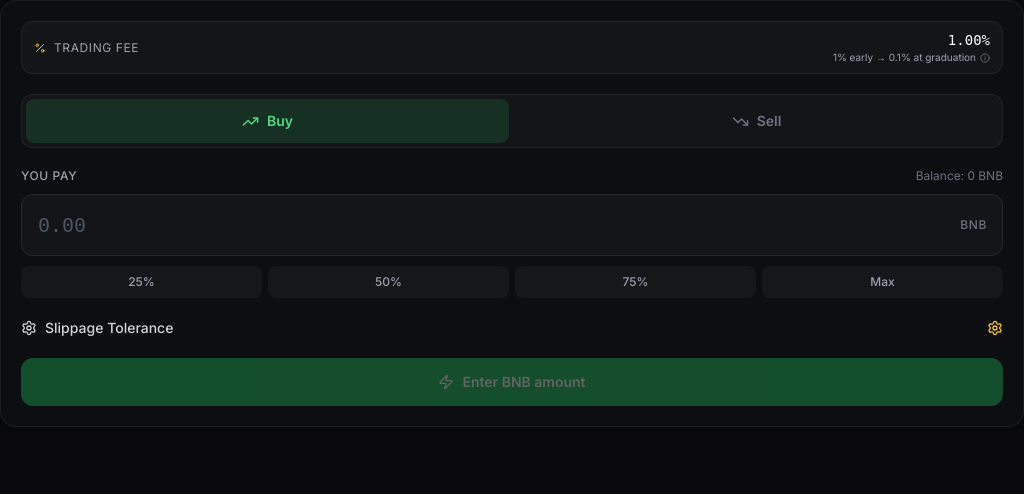
TradingInterface › Slippage Settings › should show slippage settings when clicking settings icon
Click the 7th button. click: x=995, y=328
box: x1=987 y1=320 x2=1003 y2=336
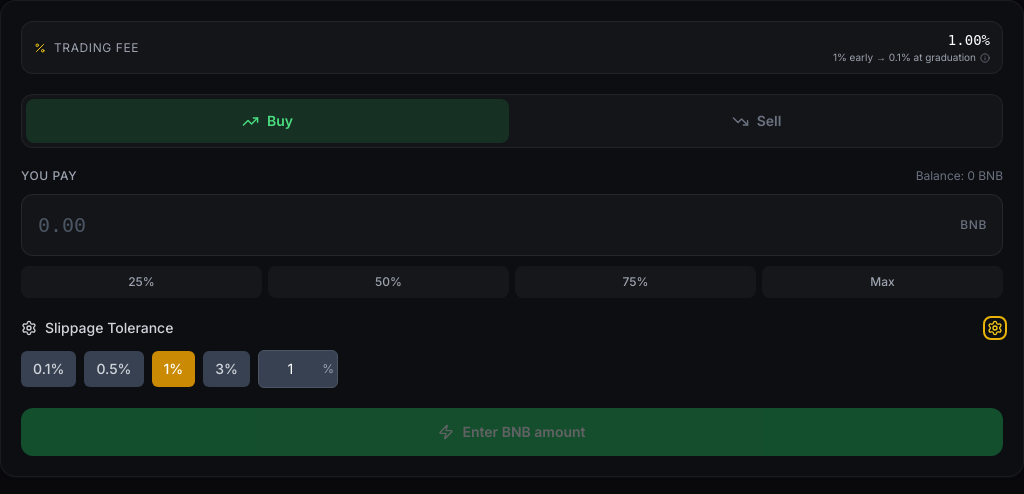
Now the button "0.1%" is shown, box x1=21 y1=351 x2=76 y2=387
Now the button "0.5%" is shown, box x1=84 y1=351 x2=144 y2=387
Now the button "1%" is shown, box x1=152 y1=351 x2=195 y2=387
